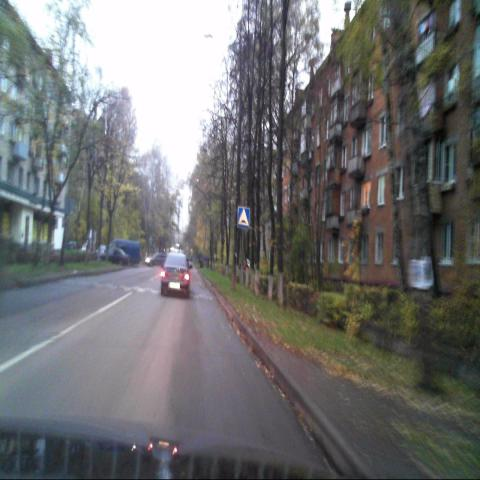5_20: (238, 207, 249, 228)
